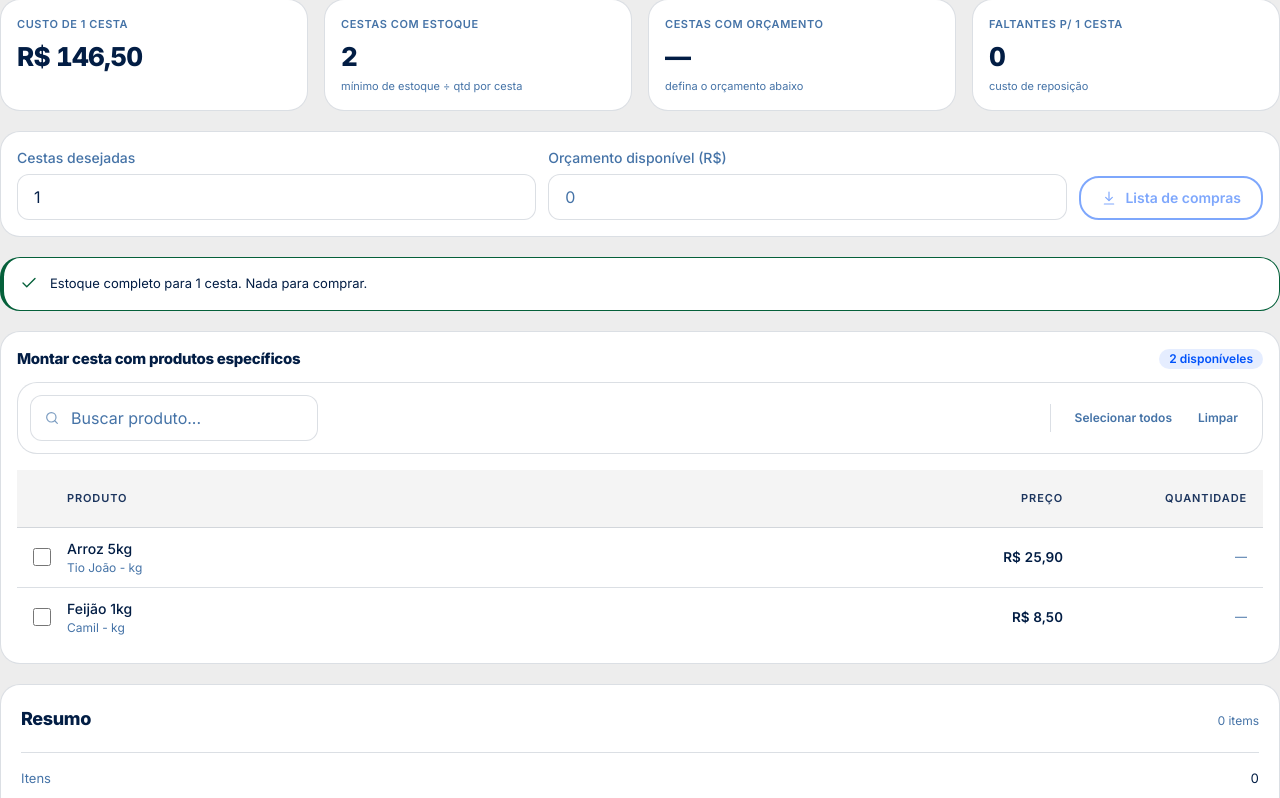
Test: SimuladorClient › MONTAGEM DE CESTA (fluxo original) › permite alterar número de cestas (campo do planner)
Click the checkbox labelled "Arroz 5kg Tio João - kg" at (42, 557), box [33,548,51,566]
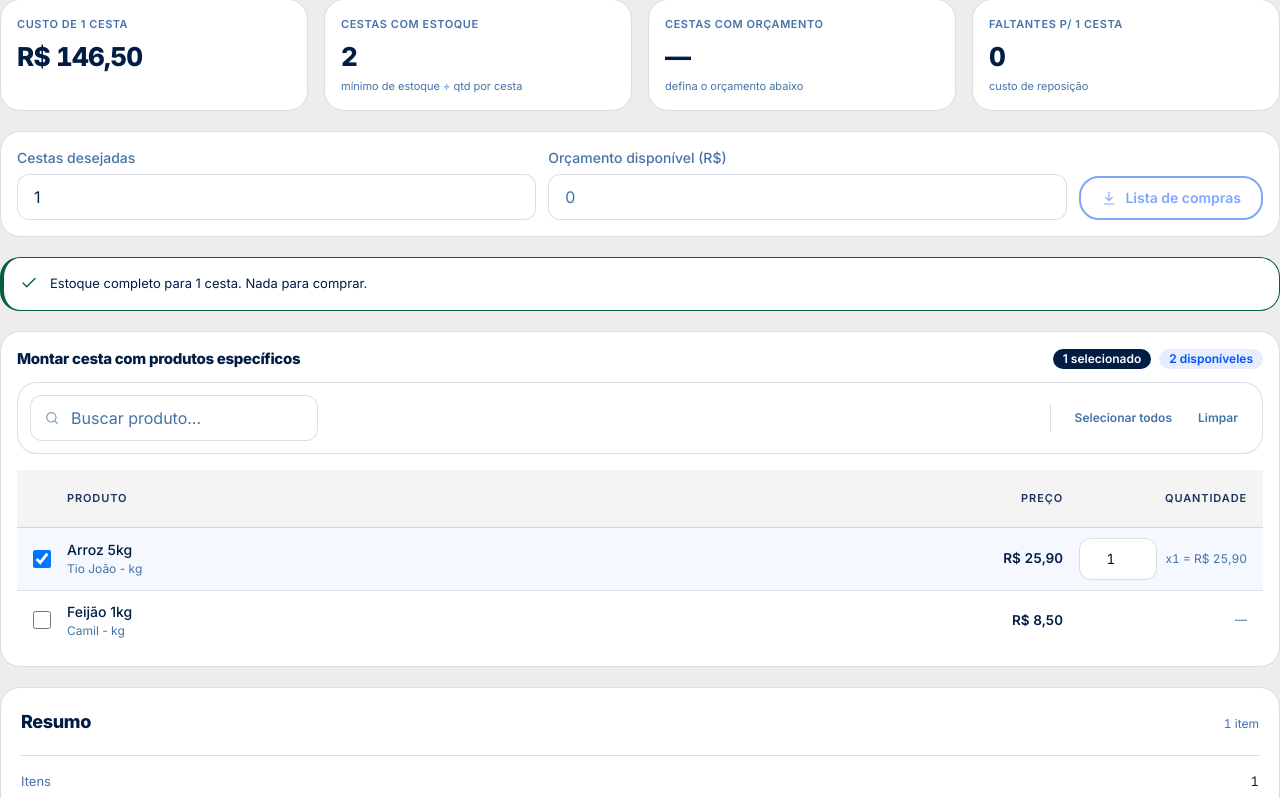
Replace the text in the field with id "num-cestas" with "2" at (277, 197), box [17,174,536,220]
(page scrolled)
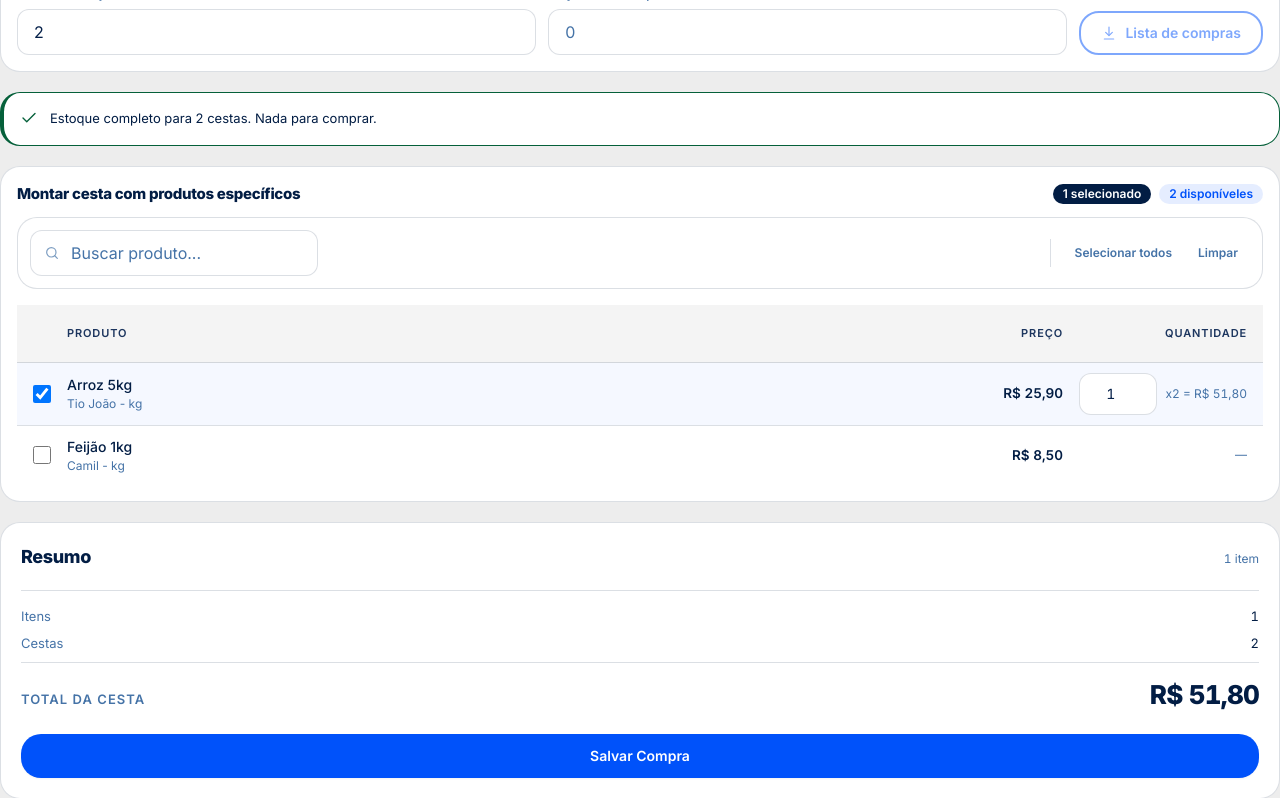
Now the text "R$ 51,80" is shown, box [1150,674,1259,714]
